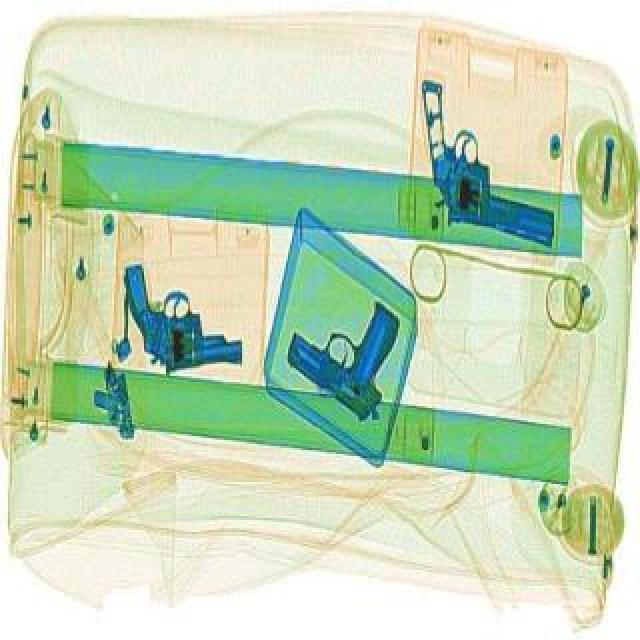gun: (420, 68, 556, 256), (270, 274, 430, 418), (120, 250, 244, 378)
